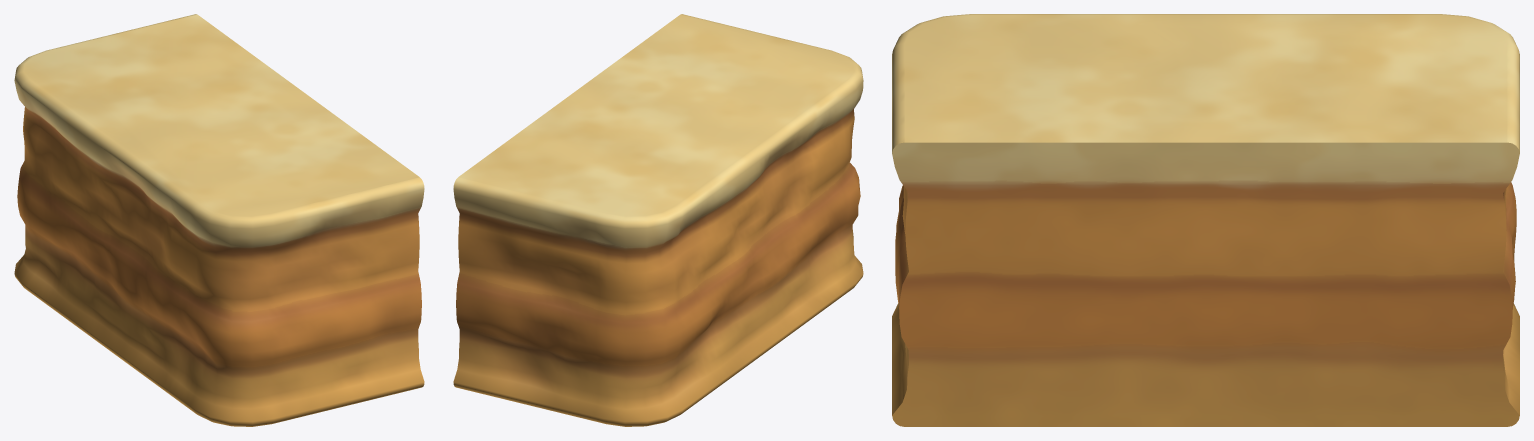
File: SD_G04_Ground_OuterCorner_L.fbx
3 renders of one model, left to right at view 1: azimuth 30°, elevation 25°; view 2: azimuth 150°, elevation 25°; view 3: azimuth 270°, elevation 25°, orthographic. The views are drawn at different scales.
Visible parts, largest first — view 1: SD_G04_Ground_OuterCorner_L; view 2: SD_G04_Ground_OuterCorner_L; view 3: SD_G04_Ground_OuterCorner_L.
Part boxes in pixels (x1,y1,x2,y2): SD_G04_Ground_OuterCorner_L: (14,14,424,426); SD_G04_Ground_OuterCorner_L: (453,14,863,426); SD_G04_Ground_OuterCorner_L: (892,14,1519,426).
Size of the model in its own units: 2 by 2 by 4.
